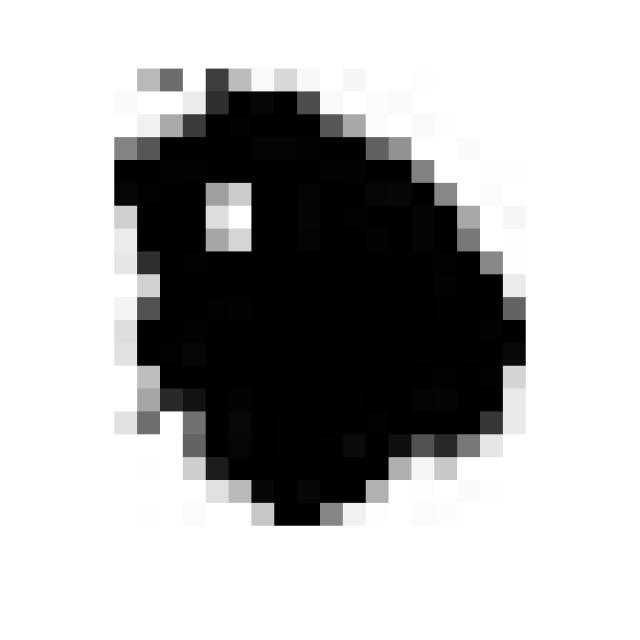0 -zero-: (86, 39, 542, 538)
